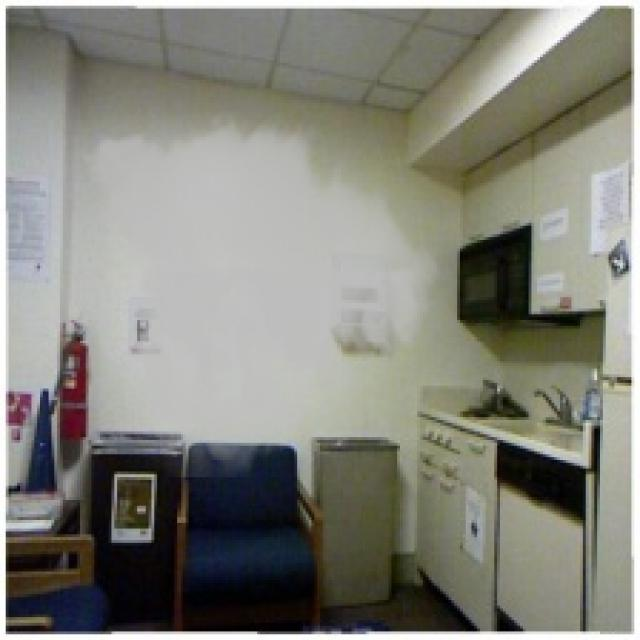smoke: (69, 109, 452, 477)
